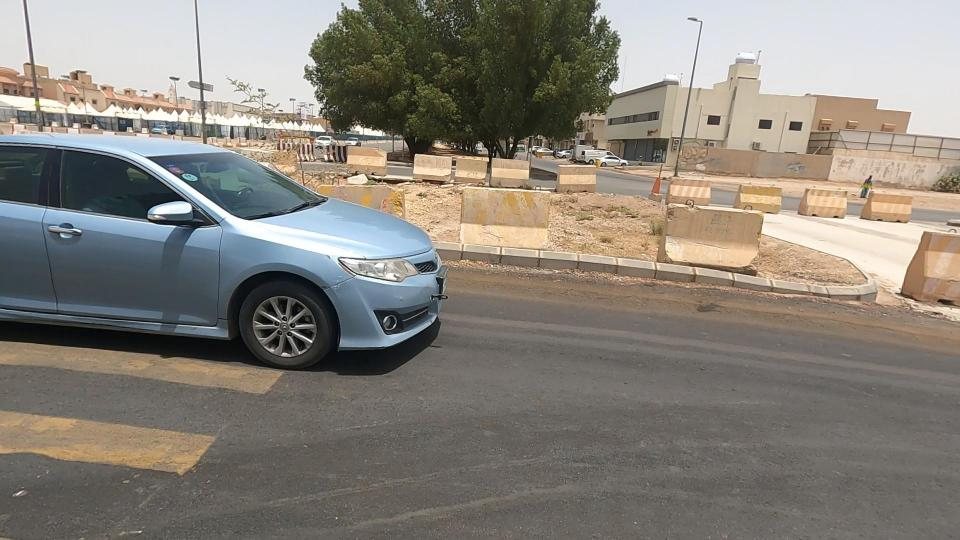CONSTRUCTION_ROAD: (237, 132, 901, 295)
